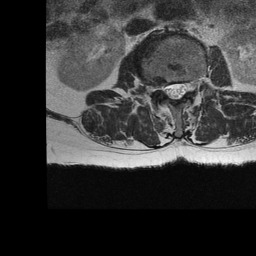CCS_normal: (172, 73, 179, 109)
LFS_normal: (186, 74, 195, 98)
LLS_normal: (179, 73, 186, 103)
RFS_stenosis: (155, 74, 164, 98)
RLS_normal: (163, 74, 172, 102)
